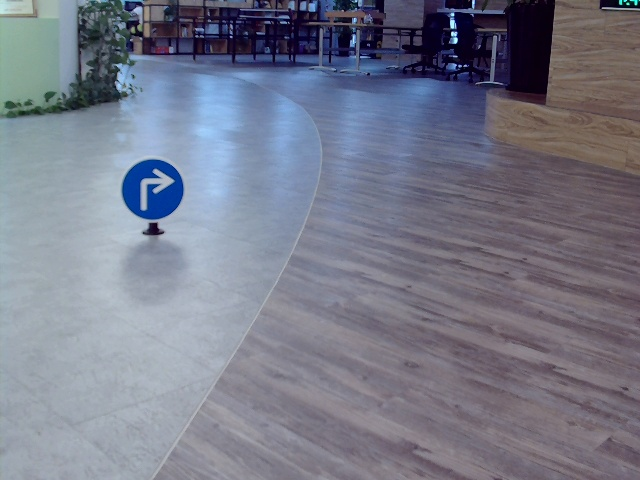turn_right: (136, 169, 175, 212)
